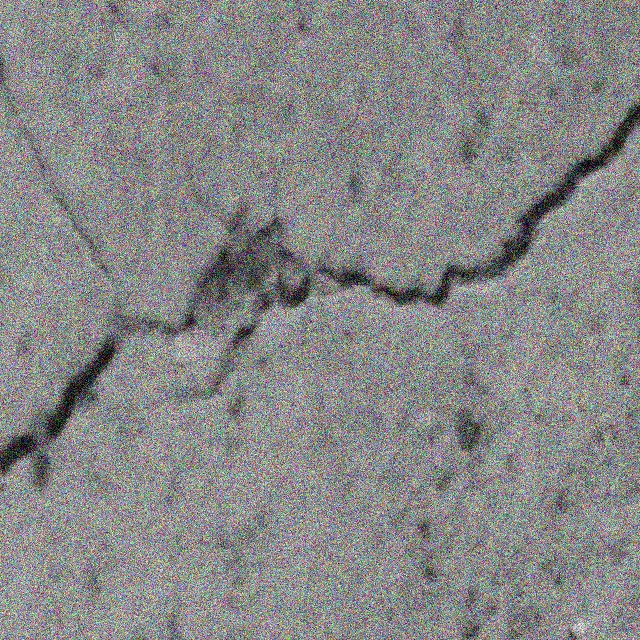SurfaceCrack: (1, 37, 639, 595)
